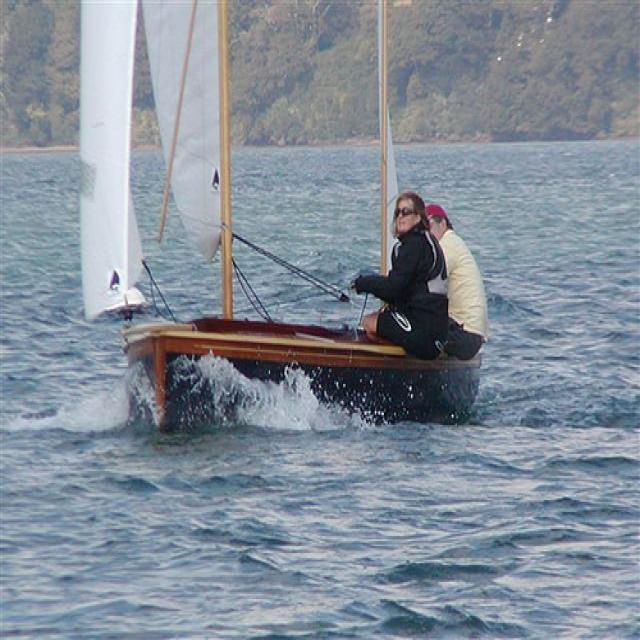Ship: (76, 4, 485, 445)
